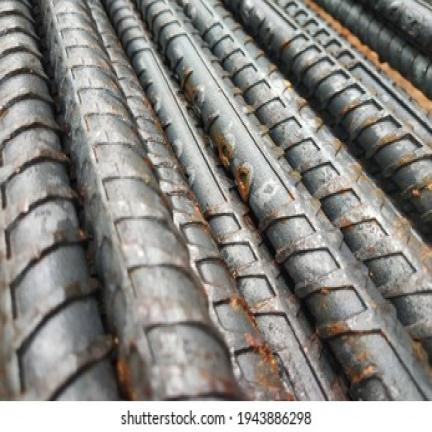besi_tidak_karat: (0, 0, 431, 402)
